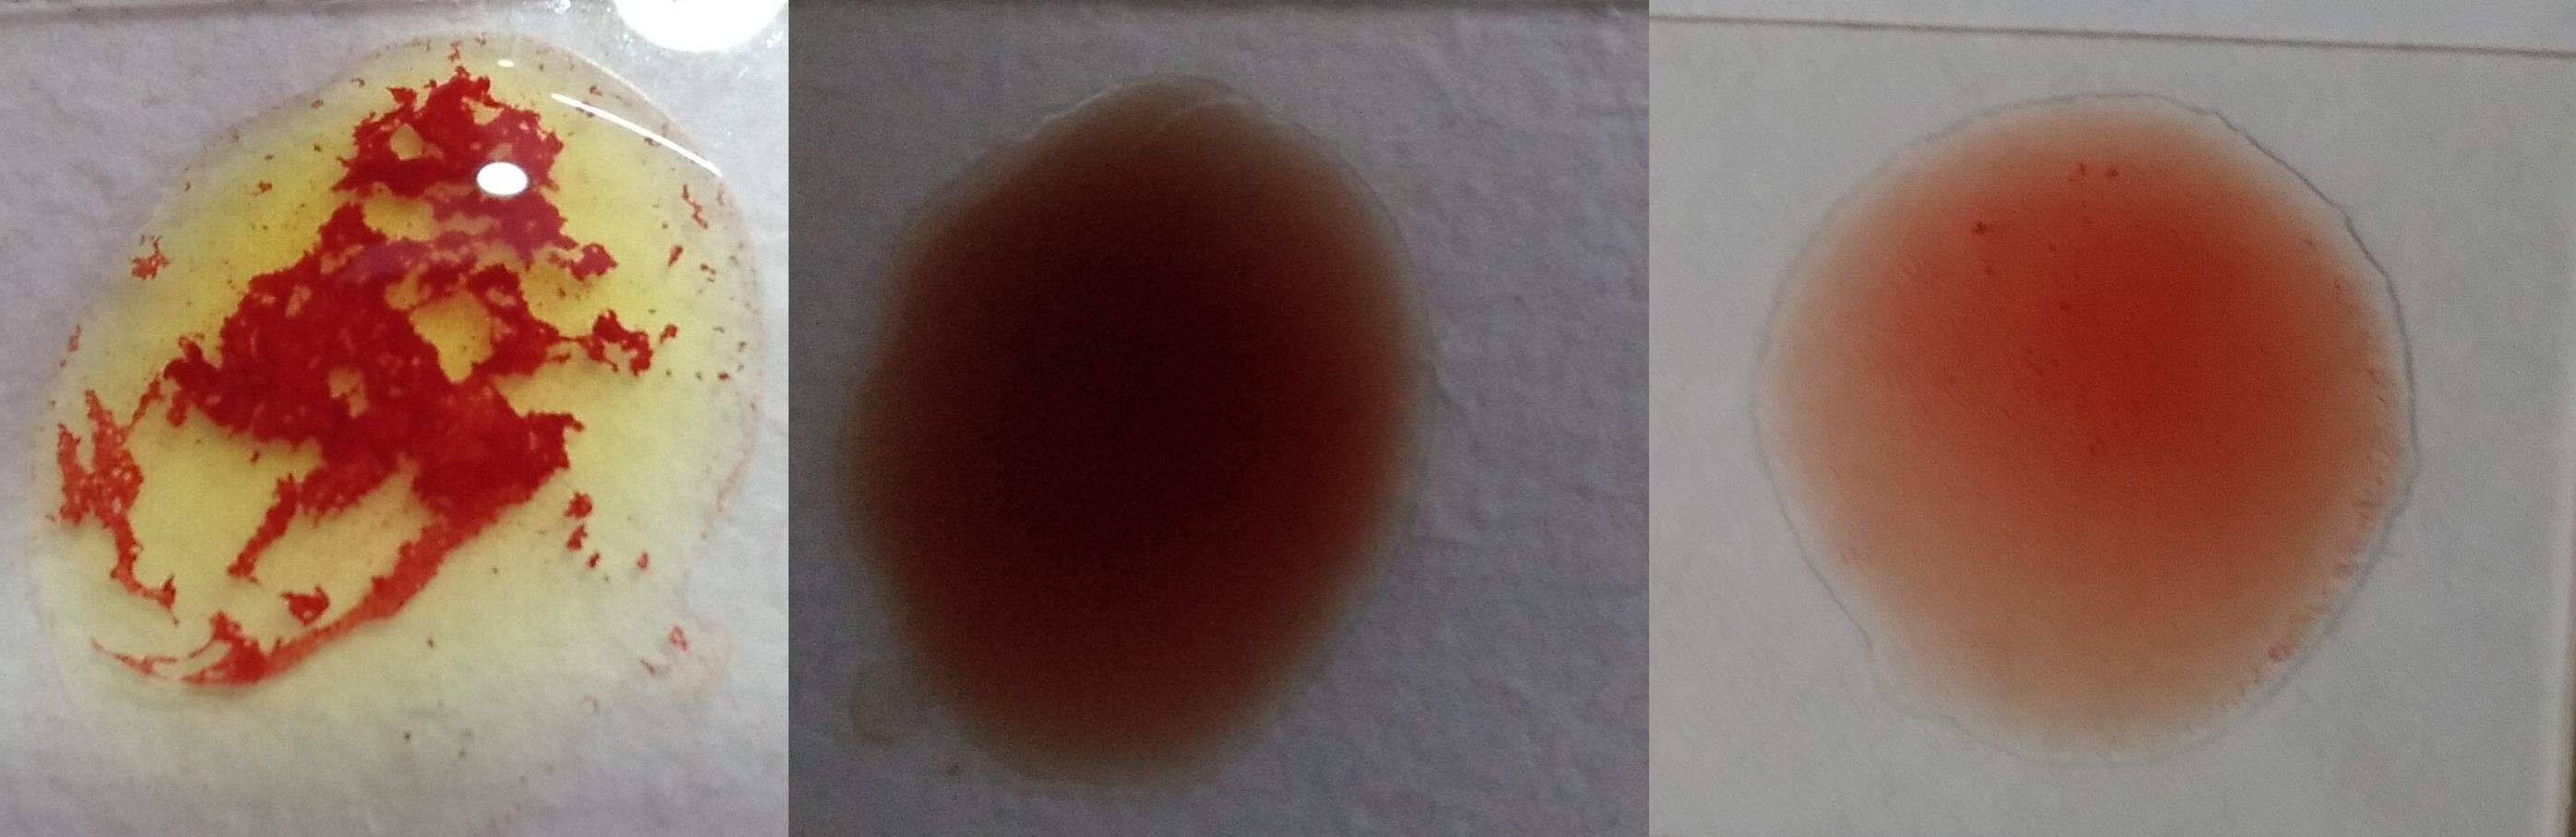B: (61, 43, 726, 707)
